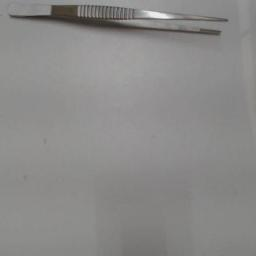DeBakey Dissector: (1, 2, 239, 52)
